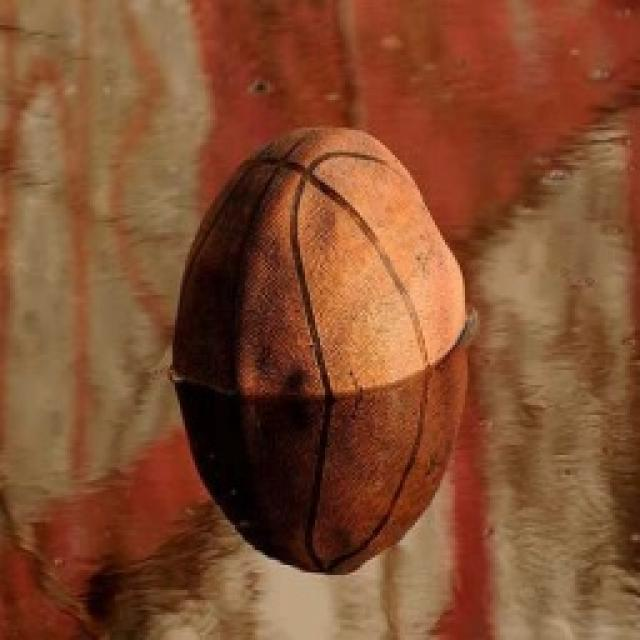rim: (162, 119, 480, 586)
